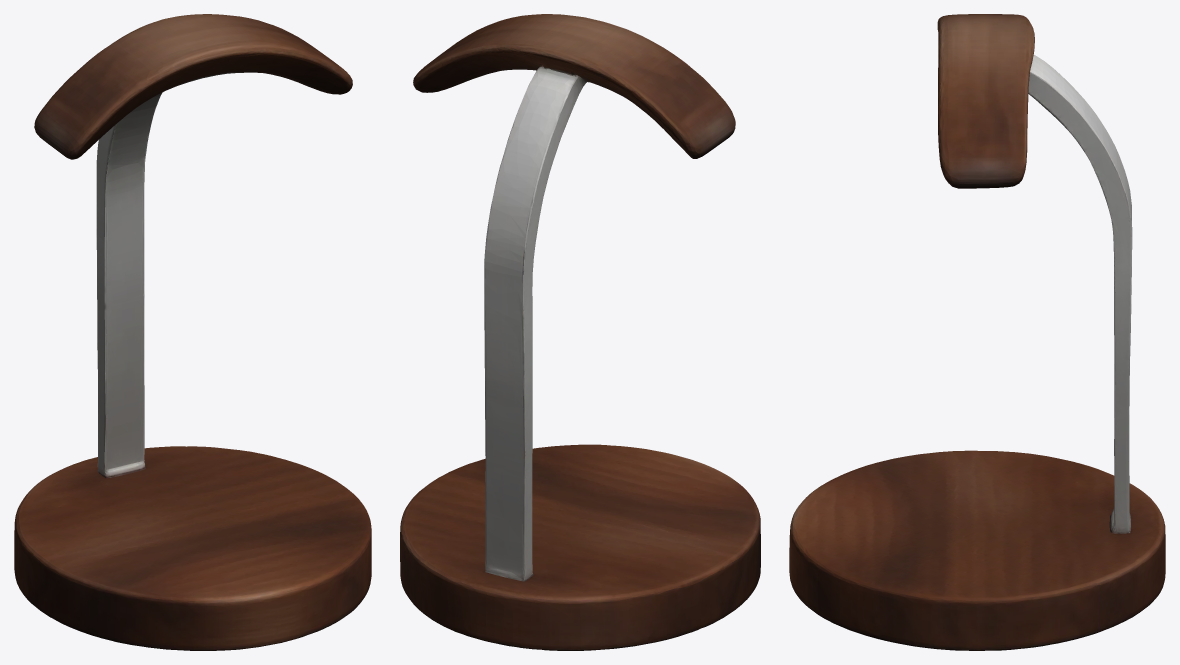
Rendered from stand.glb.
The picture shows the model from 3 angles, left to right: view 1: azimuth 30°, elevation 25°; view 2: azimuth 150°, elevation 25°; view 3: azimuth 270°, elevation 25°; orthographic projection.
Visible parts, largest first — view 1: geometry_0; view 2: geometry_0; view 3: geometry_0.
Boxes of the visible parts, left/top/right/bottom form: geometry_0: left=14, top=14, right=371, bottom=650; geometry_0: left=400, top=14, right=760, bottom=650; geometry_0: left=789, top=14, right=1165, bottom=650.
Size of the model in its own units: 0.5974 by 1 by 0.6312.
1 material, 1 textured.
